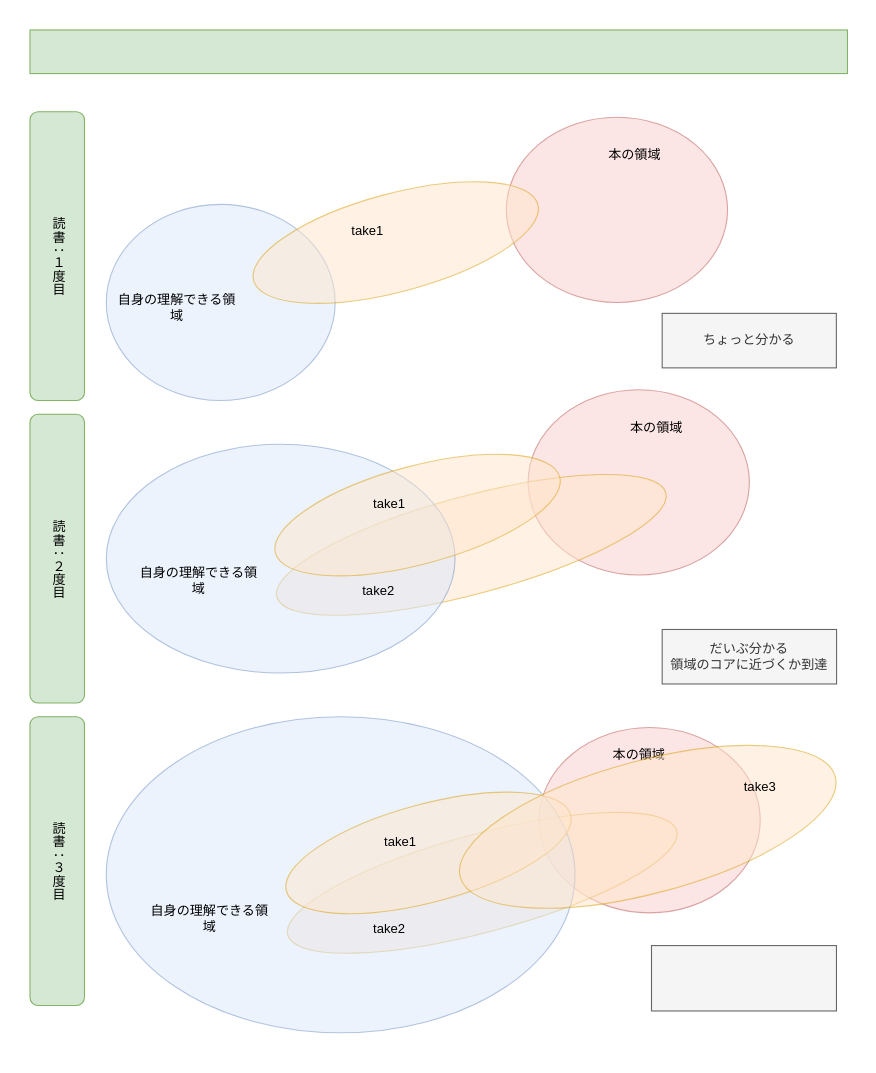
This 876x1073 diagram has some shape labels left out. The centre of each missing label's shape, as x and y in pixels:
"ほとんど分かる 本の先の領域に到達する" belongs at point 743,977.
"再読だけが創造的な読書術である" belongs at point 438,51.
